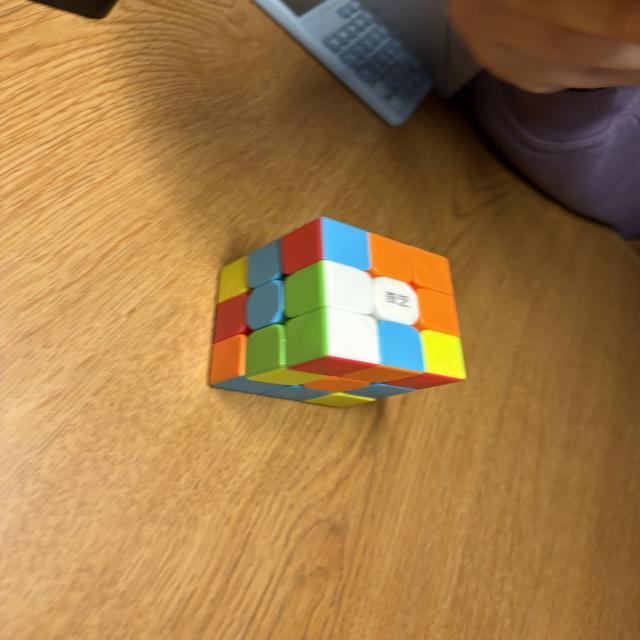Rubiks Cube: (209, 217, 467, 409)
